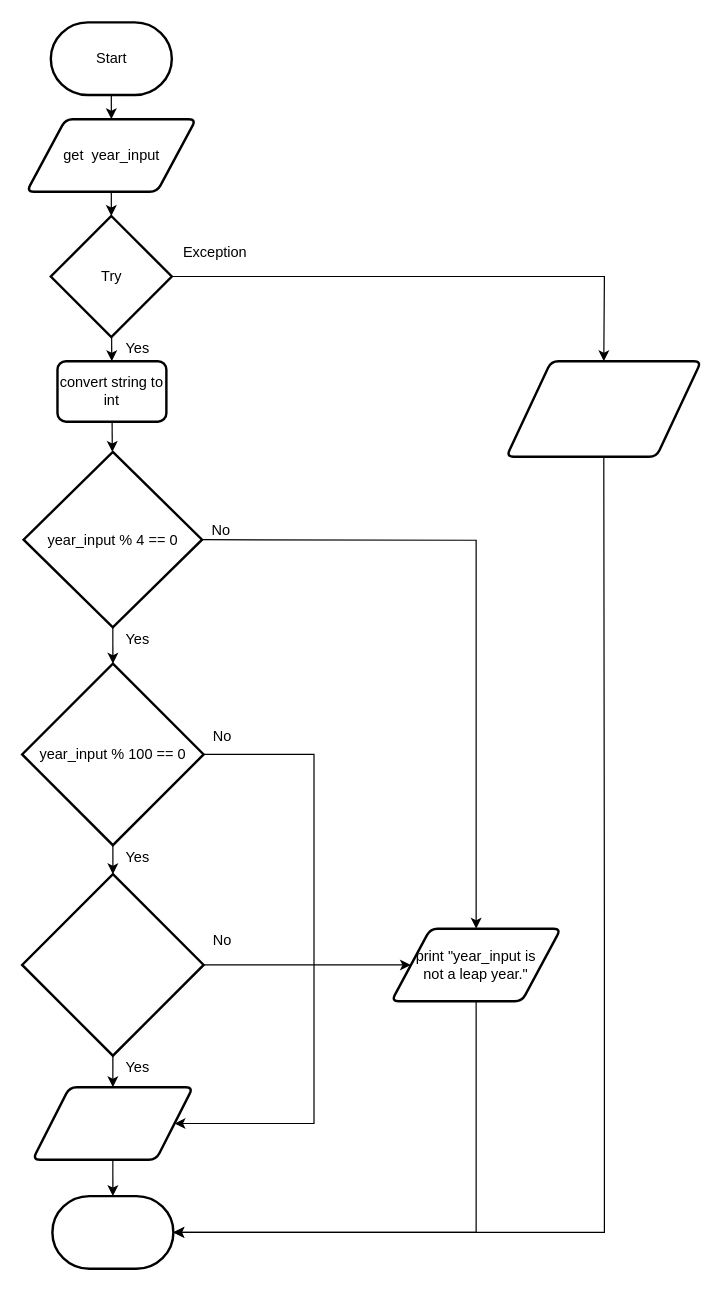
The diagram is 724 pixels wide and 1290 high, and some of its shapes have lost their labels. The centre of each missing label's shape, as x and y in pixels:
print "That is not a valid year. Please try again.": (x=603, y=408)
print "year_input is a leap year.": (x=112, y=1122)
Stop: (x=112, y=1231)
year_input % 400 == 0: (x=112, y=964)
